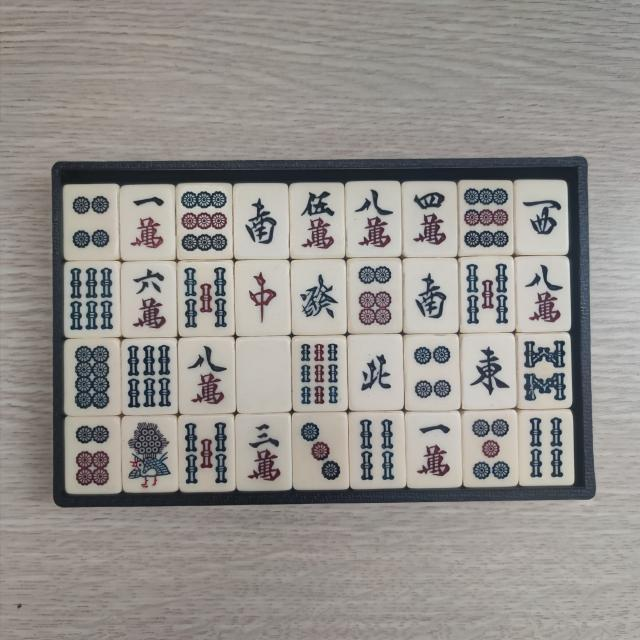hdg: (296, 267, 342, 332)
hdr: (239, 264, 284, 331)
hdw: (244, 341, 288, 407)
hwe: (467, 338, 512, 403)
hwn: (353, 339, 397, 404)
hws: (238, 188, 283, 254), (408, 263, 452, 329)
hww: (519, 185, 563, 249)
sb1: (126, 420, 174, 490)
sb4: (356, 417, 402, 485), (523, 416, 568, 484)
sb5: (184, 419, 232, 488), (182, 263, 230, 331), (467, 261, 512, 330)
sb6: (67, 266, 114, 332), (126, 342, 172, 409)
sb8: (521, 337, 568, 405)
sb9: (298, 342, 342, 408)
sc1: (412, 416, 456, 482), (126, 190, 170, 254)
sc3: (244, 418, 288, 486)
sc4: (408, 186, 452, 251)
sc5: (296, 186, 341, 253)
sc6: (127, 266, 170, 332)
sc8: (349, 186, 396, 254), (183, 341, 230, 409), (522, 260, 568, 328)
sd3: (296, 416, 342, 485)
sd4: (412, 338, 456, 404), (69, 190, 114, 254)
sd5: (469, 414, 514, 482)
sd6: (70, 422, 114, 490), (352, 262, 396, 328)
sd8: (70, 343, 116, 411)
sd9: (180, 188, 230, 256), (463, 186, 510, 252)
